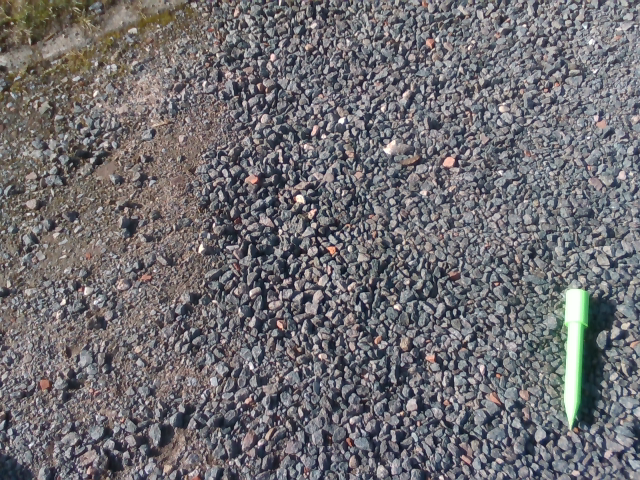Probe: (559, 285, 593, 436)
